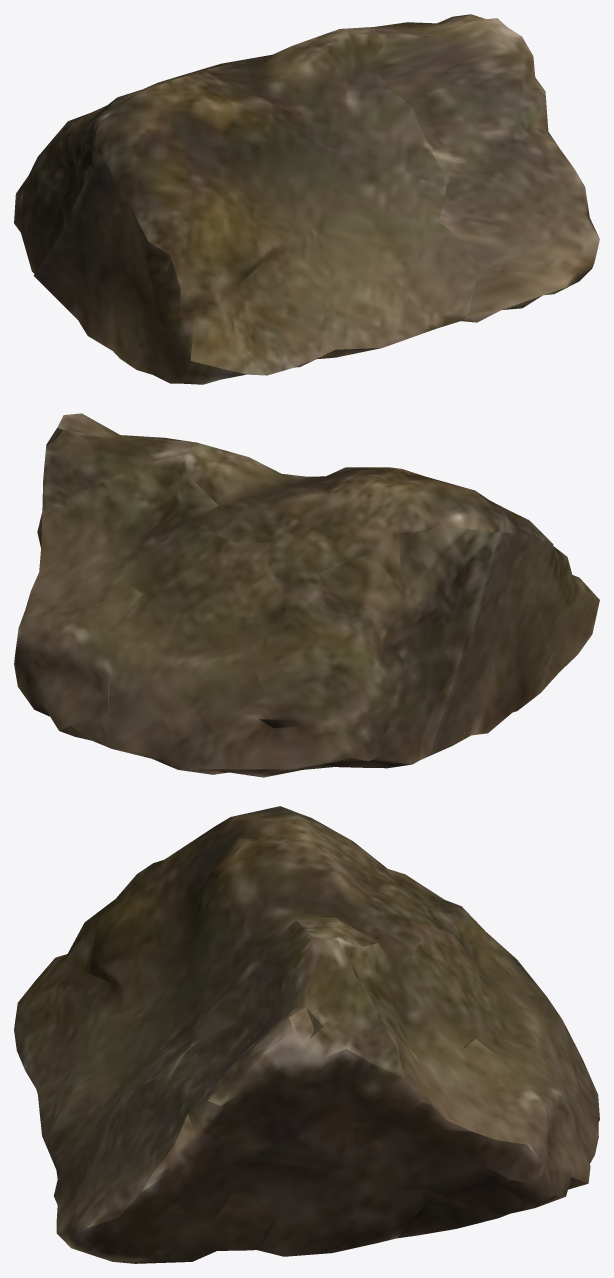
Rendered from rock_moss_03.glb.
3 renders of one model, top to bottom at view 1: azimuth 30°, elevation 25°; view 2: azimuth 150°, elevation 25°; view 3: azimuth 270°, elevation 25°, orthographic. The views are drawn at different scales.
Visible parts, largest first — view 1: rock_moss_03; view 2: rock_moss_03; view 3: rock_moss_03.
Part boxes in pixels (box(x1,y1,x2,y2)): rock_moss_03: box(14, 14, 599, 384); rock_moss_03: box(14, 413, 599, 777); rock_moss_03: box(14, 806, 599, 1263).
Bounding box in the file's own units: 2.11 × 1.1 × 2.07.
Materials: 1 (1 with a texture image).
